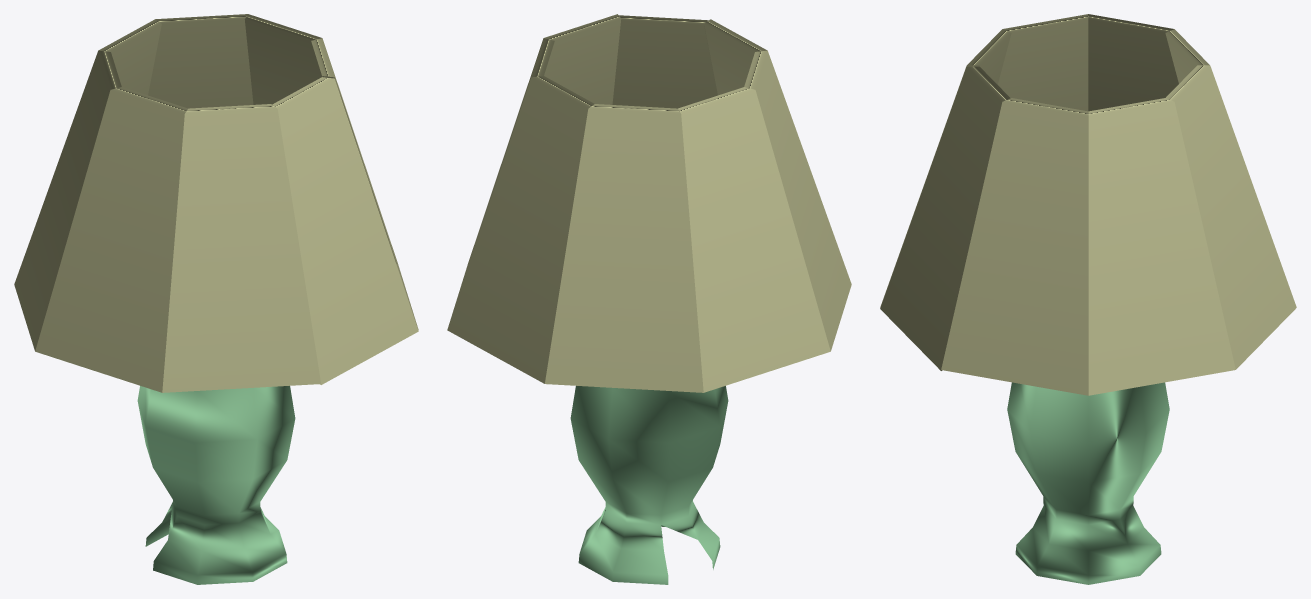
File: lamp_broken.fbx
3 renders of one model, left to right at view 1: azimuth 30°, elevation 25°; view 2: azimuth 150°, elevation 25°; view 3: azimuth 270°, elevation 25°, orthographic.
Visible parts, largest first — view 1: lampShade1, lampShade8, lampStand_broken_inside, lampShade2, lampShade7, lampShade5, lampShade4, lampShade6, lampShade3; view 2: lampShade6, lampShade7, lampShade5, lampStand_broken_inside, lampShade8, lampShade2, lampShade3, lampShade1, lampShade4; view 3: lampShade3, lampShade4, lampStand_broken_inside, lampShade5, lampShade2, lampShade8, lampShade7, lampShade1, lampShade6.
Boxes of the visible parts, left/top/right/bottom form: lampShade1: left=162, top=104, right=320, bottom=392; lampShade8: left=35, top=87, right=187, bottom=392; lampStand_broken_inside: left=137, top=386, right=295, bottom=584; lampShade2: left=272, top=77, right=418, bottom=384; lampShade7: left=14, top=50, right=121, bottom=351; lampShade5: left=148, top=14, right=253, bottom=108; lampShade4: left=244, top=14, right=396, bottom=263; lampShade6: left=98, top=19, right=161, bottom=95; lampShade3: left=311, top=38, right=418, bottom=329; lampShade6: left=545, top=104, right=703, bottom=392; lampShade7: left=678, top=87, right=830, bottom=392; lampShade5: left=447, top=76, right=594, bottom=383; lampStand_broken_inside: left=570, top=386, right=728, bottom=584; lampShade8: left=744, top=50, right=851, bottom=351; lampShade2: left=612, top=15, right=717, bottom=108; lampShade3: left=544, top=14, right=621, bottom=104; lampShade1: left=704, top=19, right=767, bottom=95; lampShade4: left=450, top=38, right=554, bottom=319; lampShade3: left=941, top=98, right=1088, bottom=395; lampShade4: left=1088, top=98, right=1235, bottom=395; lampStand_broken_inside: left=1007, top=382, right=1169, bottom=584; lampShade5: left=1166, top=65, right=1296, bottom=369; lampShade2: left=880, top=66, right=1010, bottom=370; lampShade8: left=998, top=14, right=1088, bottom=111; lampShade7: left=1088, top=14, right=1178, bottom=111; lampShade1: left=880, top=29, right=1011, bottom=307; lampShade6: left=1165, top=29, right=1209, bottom=83.
Bounding box in the file's own units: 1.19 × 1.54 × 1.19.
